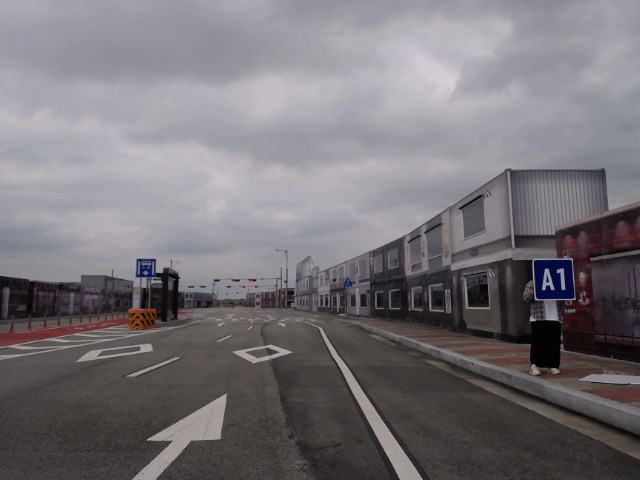delivery_a1: (533, 259, 576, 300)
